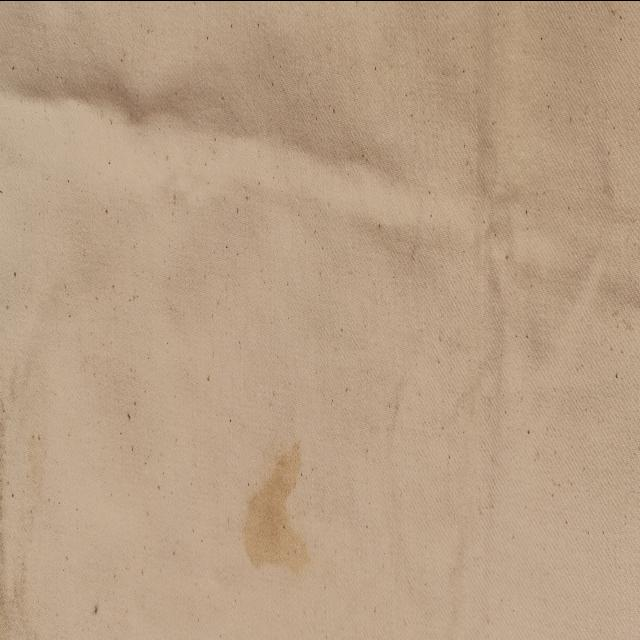taaaches: (238, 425, 313, 609)
